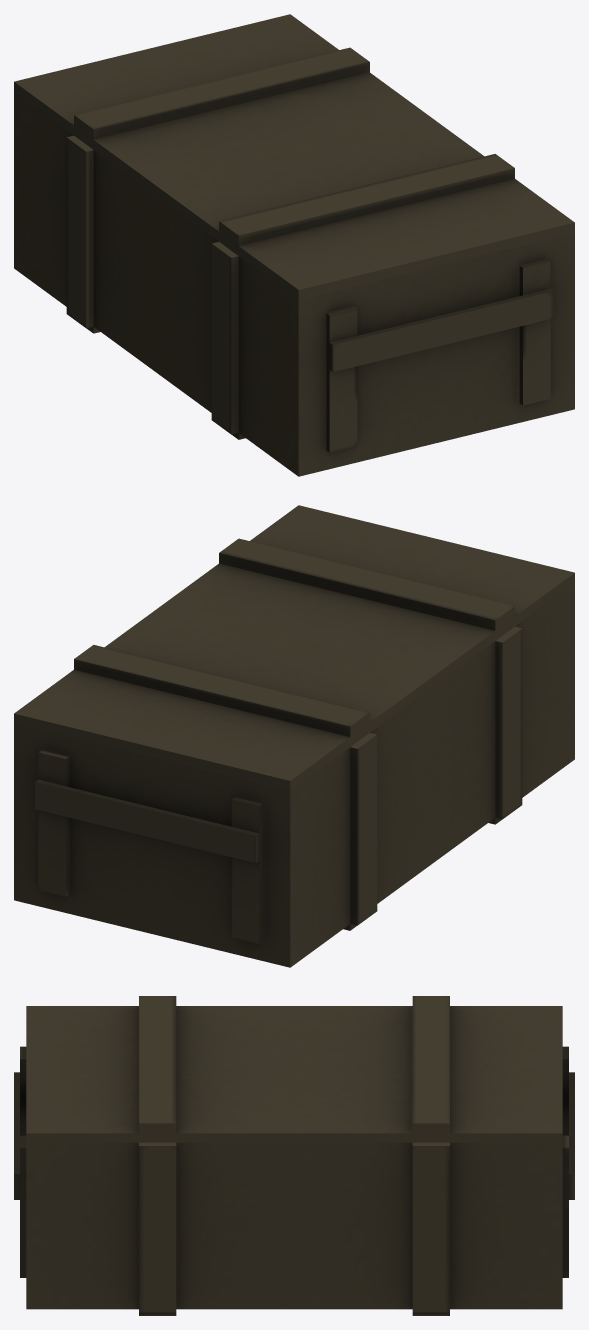
The model's file is Crate_Medium 1.fbx.
3 views of the same model, one above another, from view 1: azimuth 30°, elevation 25°; view 2: azimuth 150°, elevation 25°; view 3: azimuth 270°, elevation 25° (orthographic). The views are drawn at different scales.
Parts seen in each view (by area): view 1: Crate_Medium, Crate_Med_Top; view 2: Crate_Medium, Crate_Med_Top; view 3: Crate_Medium, Crate_Med_Top.
Boxes of the visible parts, x1,y1,x2,y2 form: Crate_Medium: (14, 92, 574, 476); Crate_Med_Top: (14, 14, 574, 299); Crate_Medium: (14, 583, 574, 967); Crate_Med_Top: (14, 505, 574, 790); Crate_Medium: (14, 1046, 574, 1315); Crate_Med_Top: (26, 996, 562, 1142).
Size of the model in its own units: 1.07 by 0.715 by 1.89.
